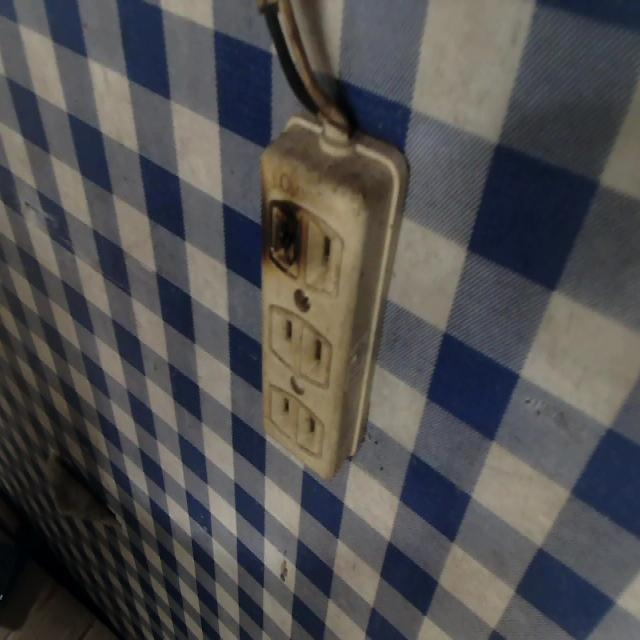-: (256, 184, 313, 283)
